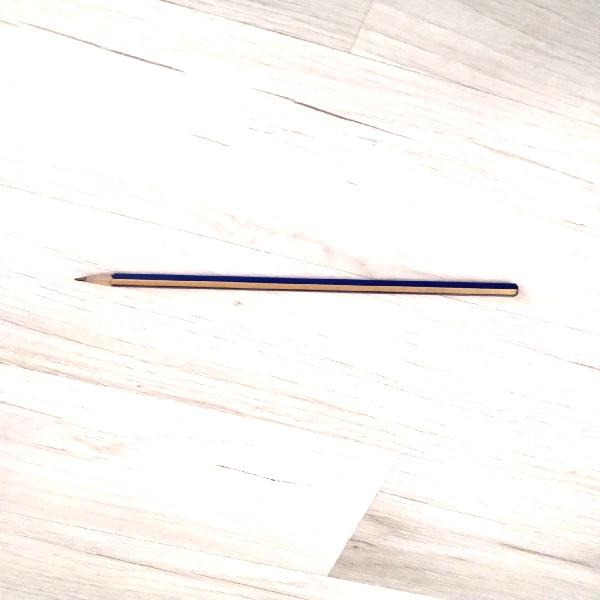pencil: (71, 262, 526, 300)
